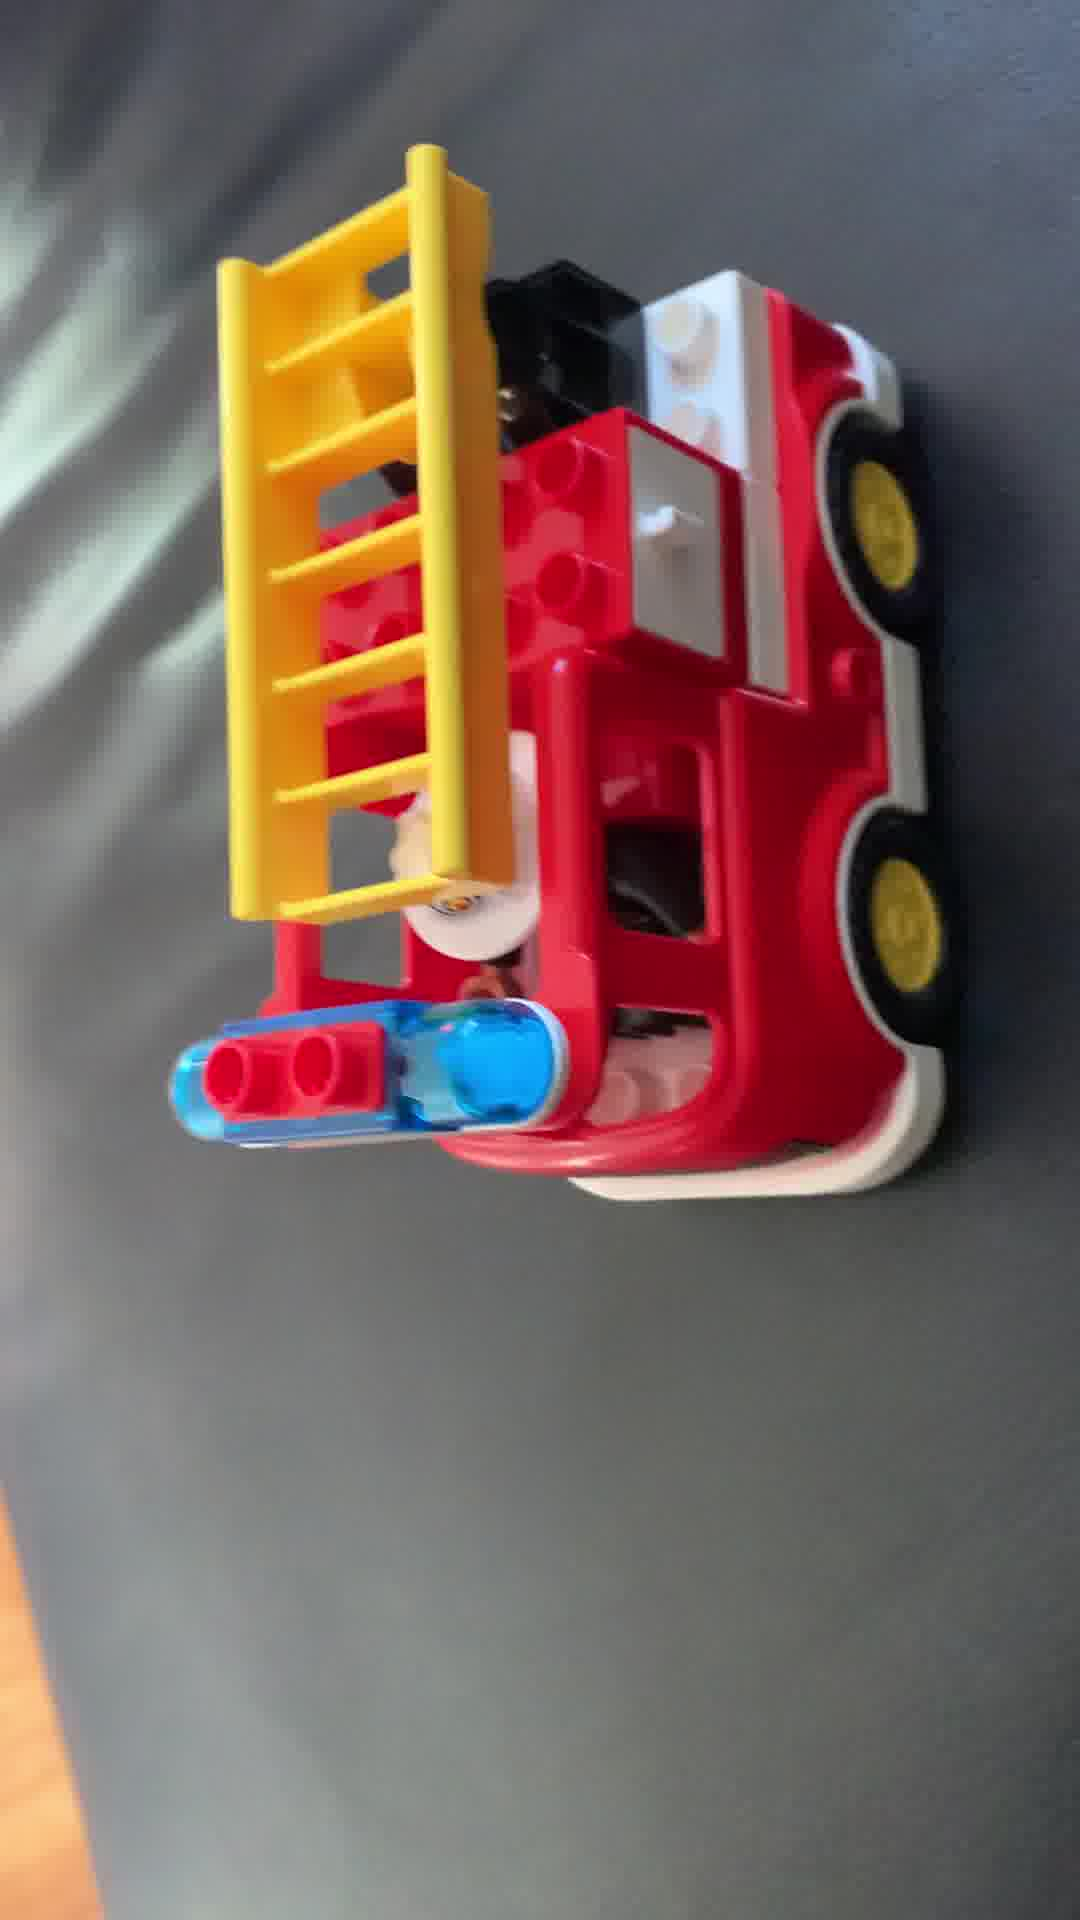lego fire truck: (166, 146, 953, 1225)
